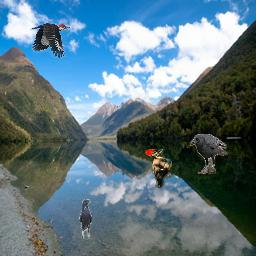Crow: (190, 134, 228, 174), (79, 199, 92, 239)
Woodpecker: (30, 23, 70, 58), (145, 148, 172, 188)
